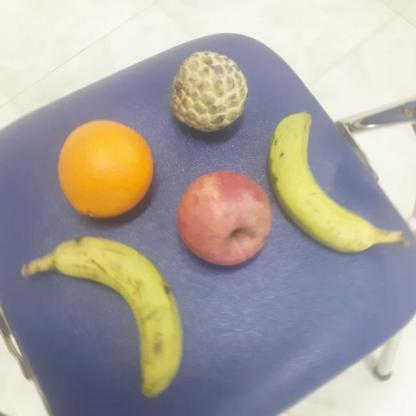annona: (166, 51, 248, 135)
apple: (176, 169, 274, 266)
banana: (48, 234, 184, 398), (266, 108, 374, 257)
orange: (53, 118, 157, 219)
